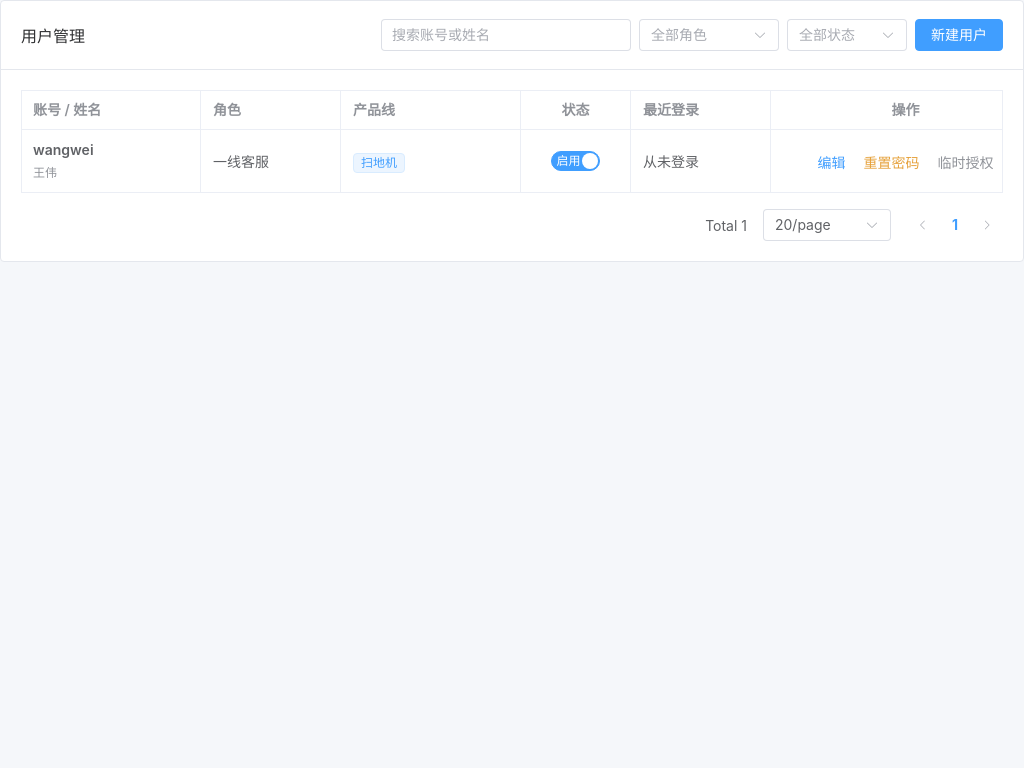
it: UserList › 新建用户表单包含确认密码字段
Step 1. Click the button "新建用户" → click(959, 35), box 915,19 -> 1003,51
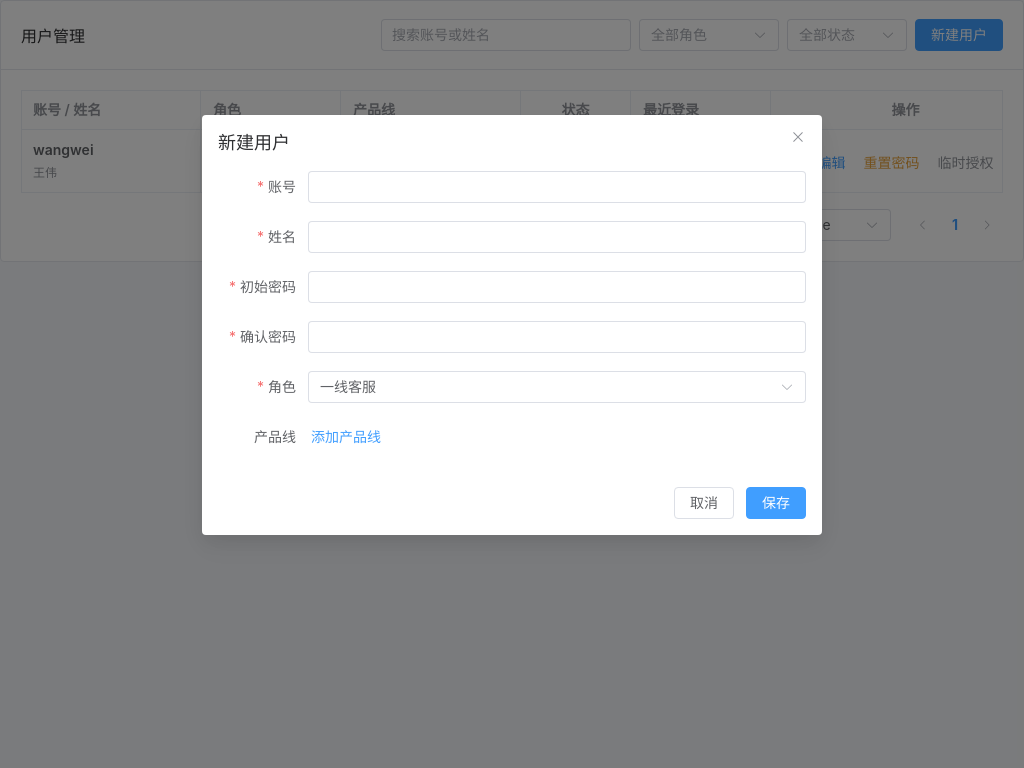
Expected: the text "确认密码" is shown, 218,321 -> 308,353
